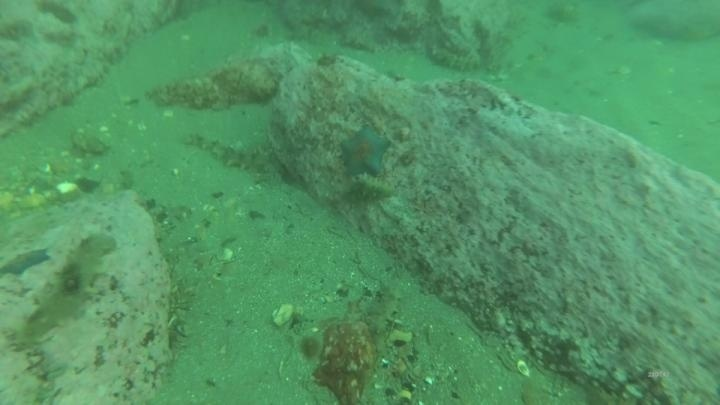holothurian: (14, 230, 116, 351), (184, 128, 275, 176), (426, 39, 483, 74), (338, 175, 397, 208)
starfish: (337, 123, 393, 179), (1, 246, 53, 279)
